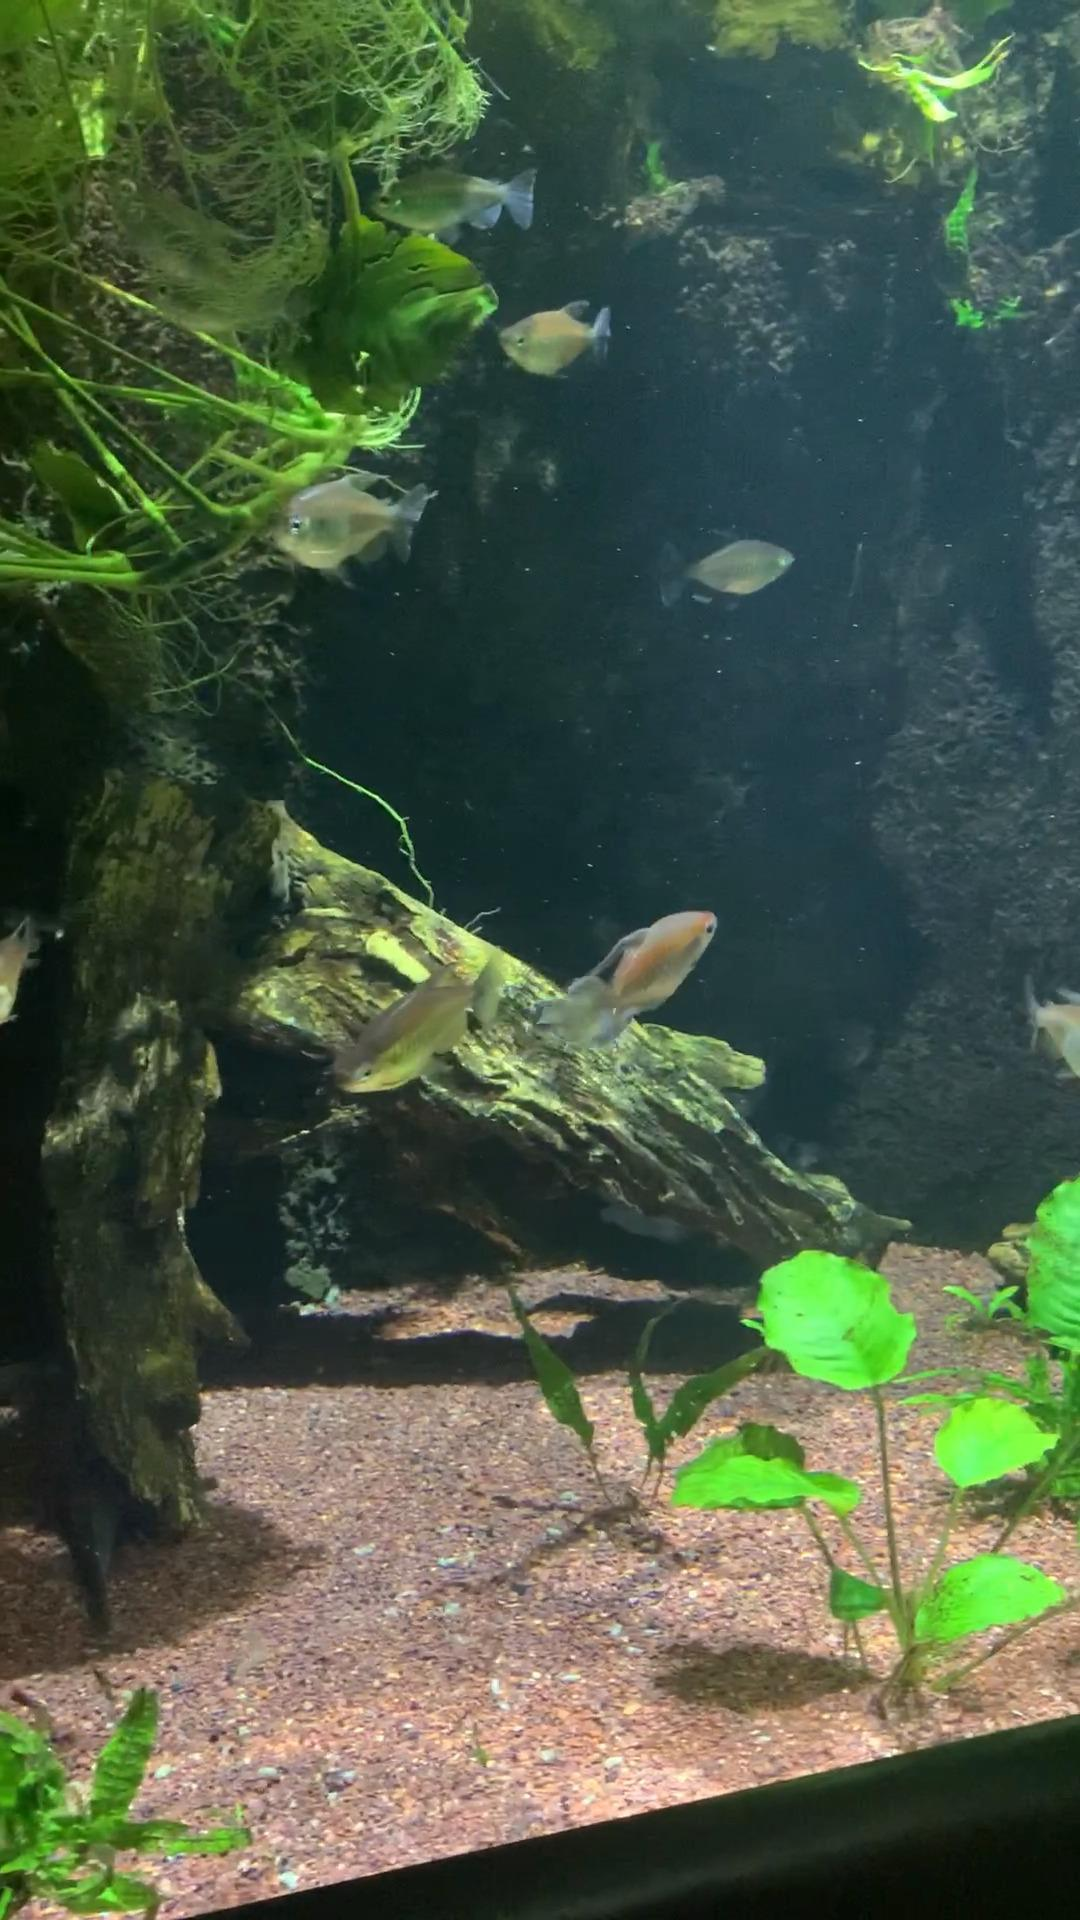fish: (534, 906, 724, 1058), (334, 951, 500, 1100), (258, 468, 439, 585), (368, 157, 545, 256), (496, 295, 618, 386), (1015, 964, 1080, 1102), (654, 539, 800, 600), (0, 911, 47, 1038)
